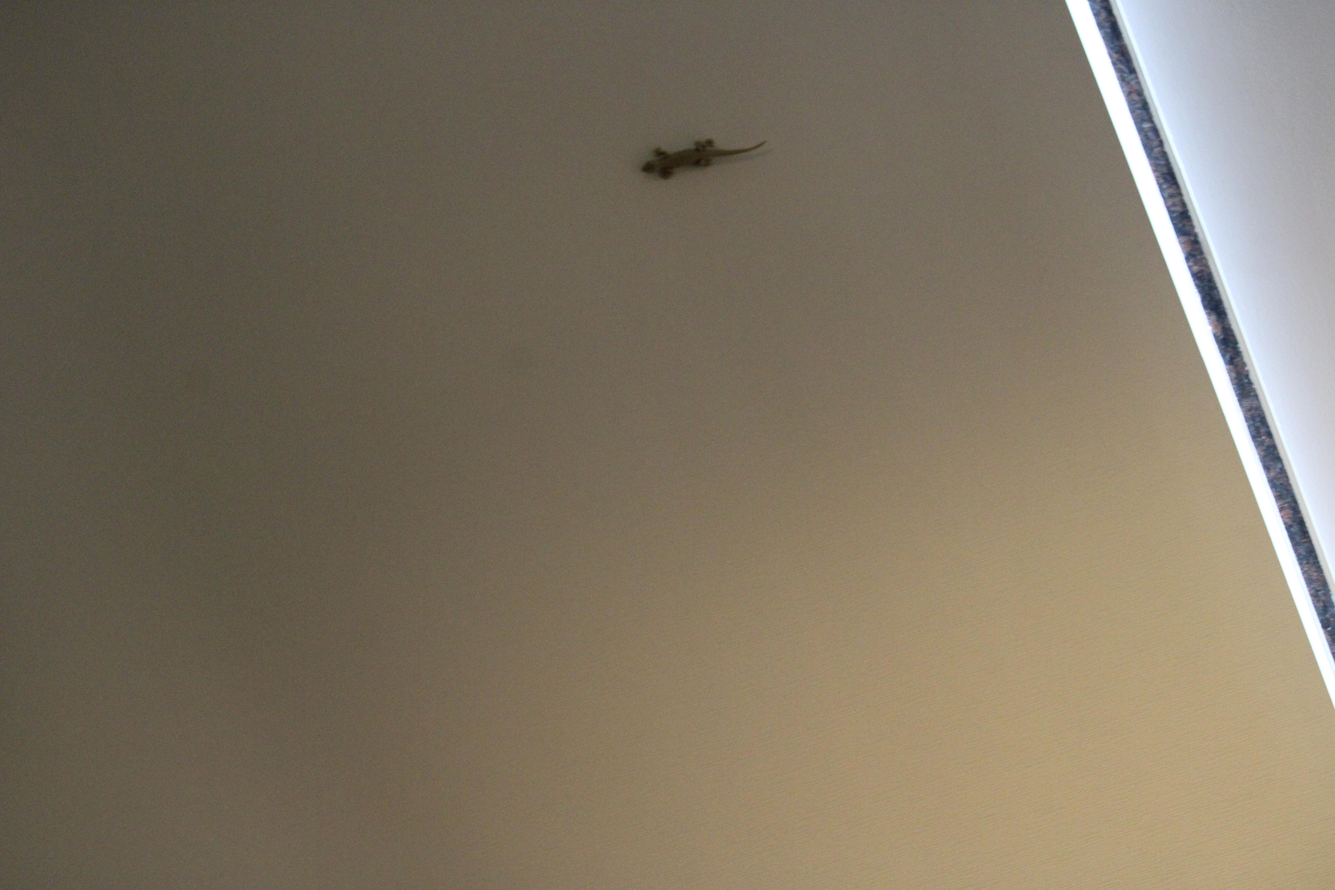lizard: (628, 118, 759, 196)
